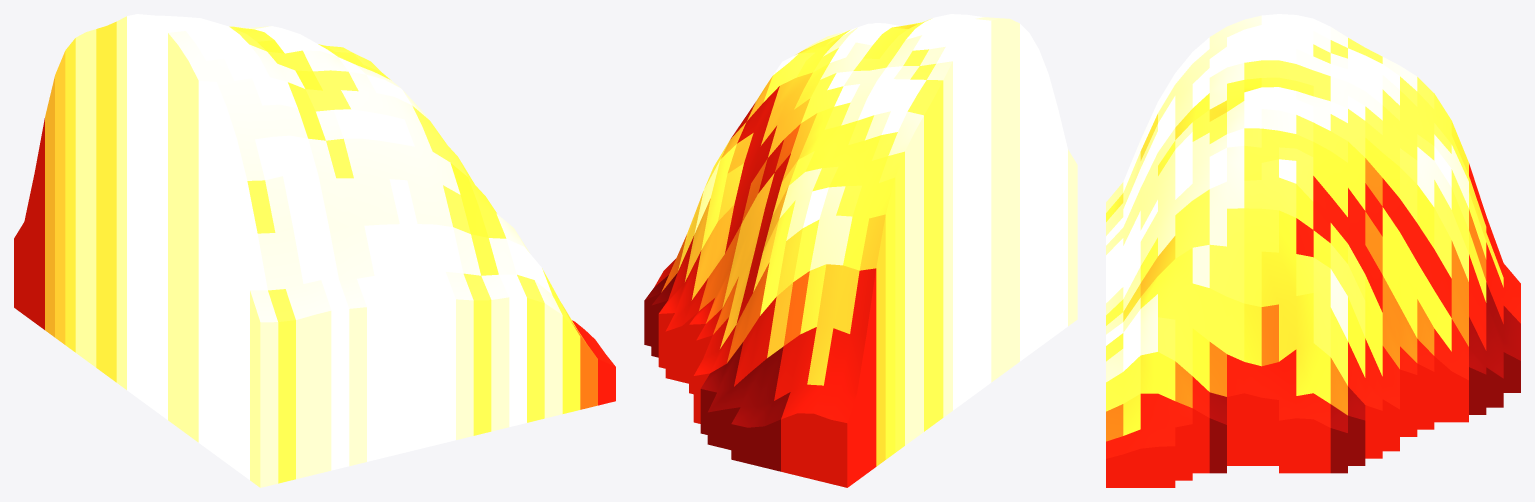
Rendered from newshk-17.glb.
The picture shows the model from 3 angles, left to right: view 1: azimuth 30°, elevation 25°; view 2: azimuth 150°, elevation 25°; view 3: azimuth 270°, elevation 25°; orthographic projection. The views are drawn at different scales.
Visible parts, largest first — view 1: newshk-17; view 2: newshk-17; view 3: newshk-17.
Part boxes in pixels (box(x1,y1,x2,y2)): newshk-17: box(14, 14, 615, 487); newshk-17: box(644, 14, 1077, 487); newshk-17: box(1106, 14, 1520, 487).
Size of the model in its own units: 1.67 by 1.74 by 2.
